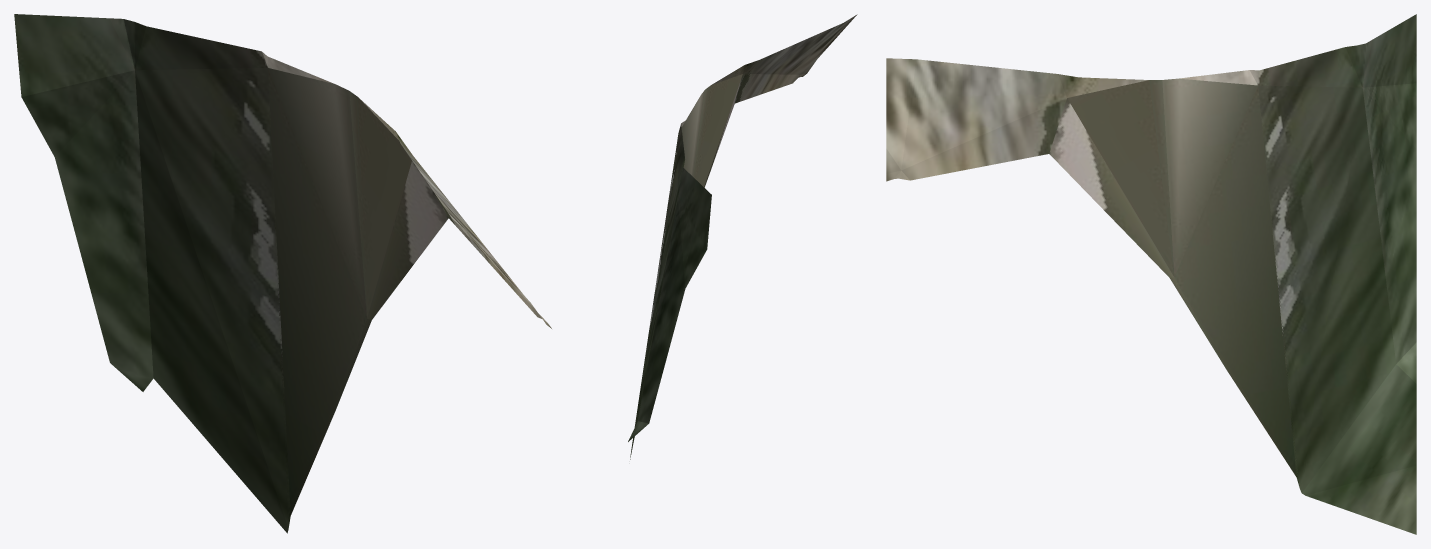
3 renders of one model, left to right at view 1: azimuth 30°, elevation 25°; view 2: azimuth 150°, elevation 25°; view 3: azimuth 270°, elevation 25°, orthographic. The views are drawn at different scales.
Size of the model in its own units: 1 by 2.73 by 2.95.
2 materials, 2 textured.
